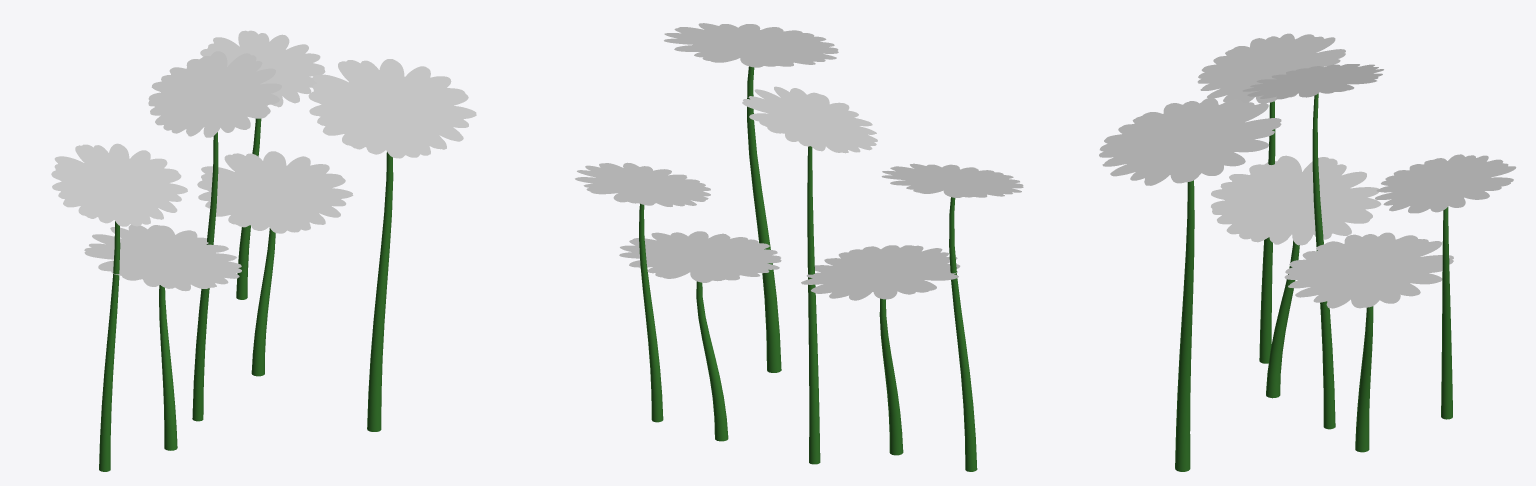
File: paquerette.fbx
The picture shows the model from 3 angles, left to right: view 1: azimuth 30°, elevation 25°; view 2: azimuth 150°, elevation 25°; view 3: azimuth 270°, elevation 25°; orthographic projection. The views are drawn at different scales.
Visible parts, largest first — view 1: sweep112; view 2: sweep112; view 3: sweep112.
Boxes of the visible parts, <box> form: sweep112: <box>51,30,476,471</box>; sweep112: <box>575,23,1023,471</box>; sweep112: <box>1099,33,1516,471</box>.
Size of the model in its own units: 3.36 by 2.67 by 2.95.
